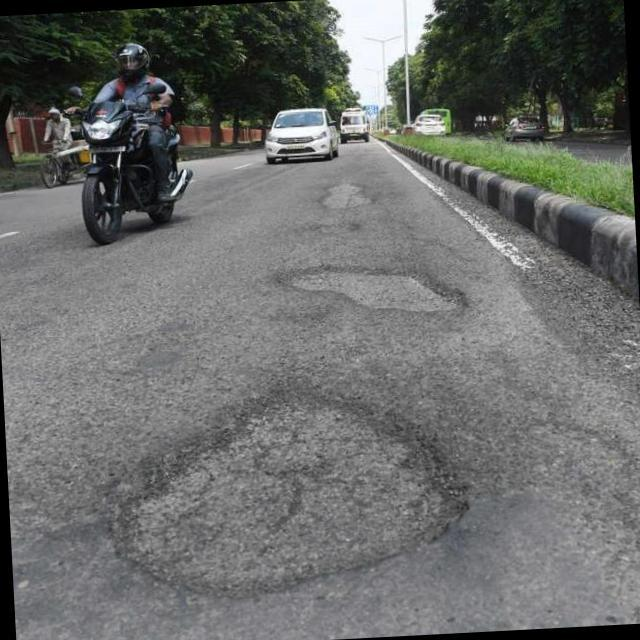Pothole: (107, 382, 462, 594), (281, 268, 464, 312), (324, 181, 374, 207)
